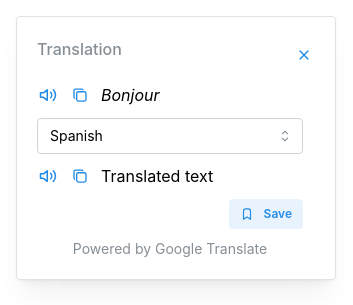
Test case: TranslationPopup › should show saved state after successful save
Click the button "Save" at (266, 214), box [229, 199, 303, 229]
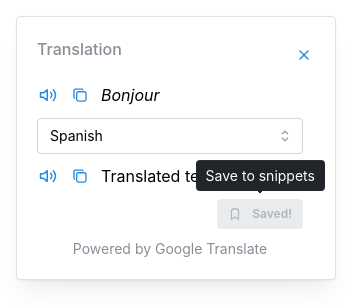
Expected: the button "Saved!" is disabled, [217, 199, 303, 229]
